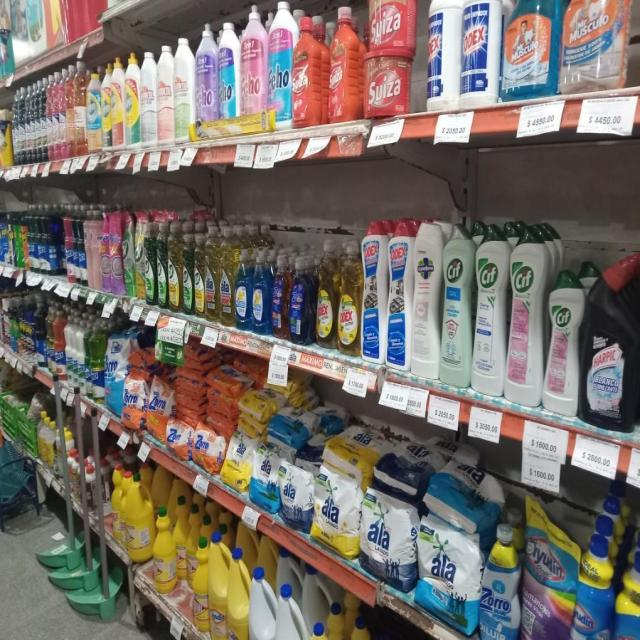ala_conc_amarillo: (220, 225, 234, 326), (205, 223, 219, 323)
cif_conc_bot_amarilla: (168, 221, 181, 312), (194, 226, 204, 318)
cif_conc_botella_verde: (182, 224, 193, 316), (144, 215, 155, 305), (156, 220, 167, 309)
magistral_con_azul: (252, 248, 270, 334), (235, 246, 251, 330), (628, 515, 640, 603)
odex: (338, 238, 360, 354), (316, 238, 338, 348)
zorro: (289, 254, 313, 345), (271, 251, 288, 340)
